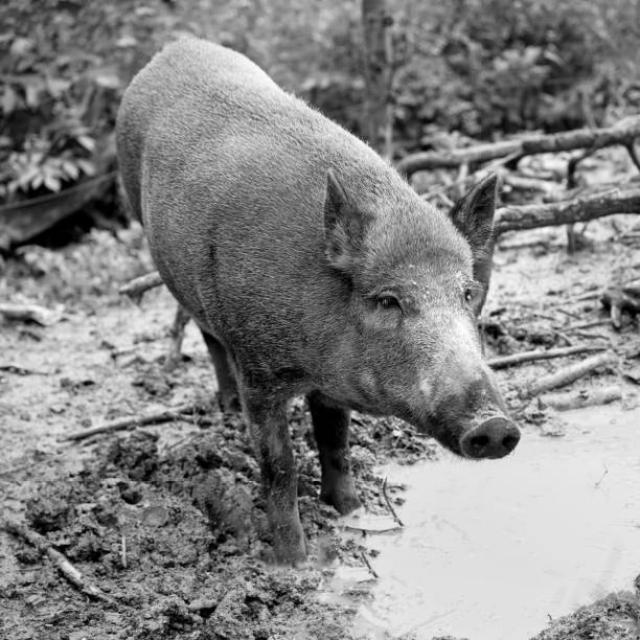boar: (117, 39, 521, 565)
